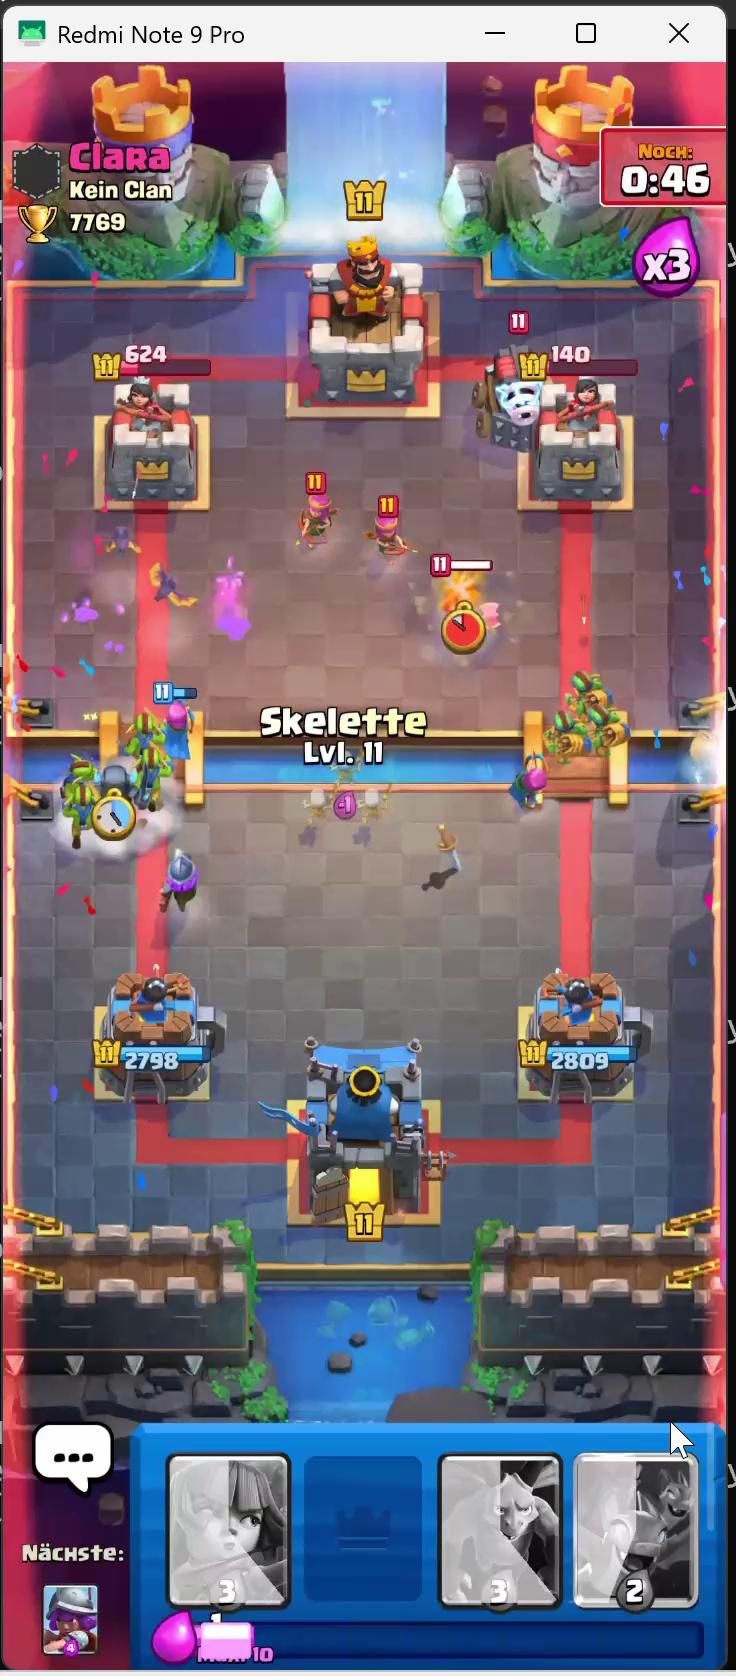archere: (361, 498, 410, 562), (152, 693, 198, 748), (298, 490, 334, 539), (512, 761, 550, 802)
bat: (147, 564, 190, 615), (108, 518, 140, 564)
gobelin: (66, 747, 99, 809), (139, 745, 171, 804), (72, 781, 99, 836), (127, 713, 158, 756)
gobelin_lances: (591, 708, 626, 758), (551, 707, 582, 756), (570, 667, 595, 698)
mini_PEKKA: (95, 758, 140, 820)
mousquetaire: (160, 848, 200, 916)
squelette: (347, 790, 392, 826), (331, 742, 357, 787), (304, 785, 327, 816)
valkyrie: (432, 568, 490, 649)
zappy: (485, 341, 545, 439)
